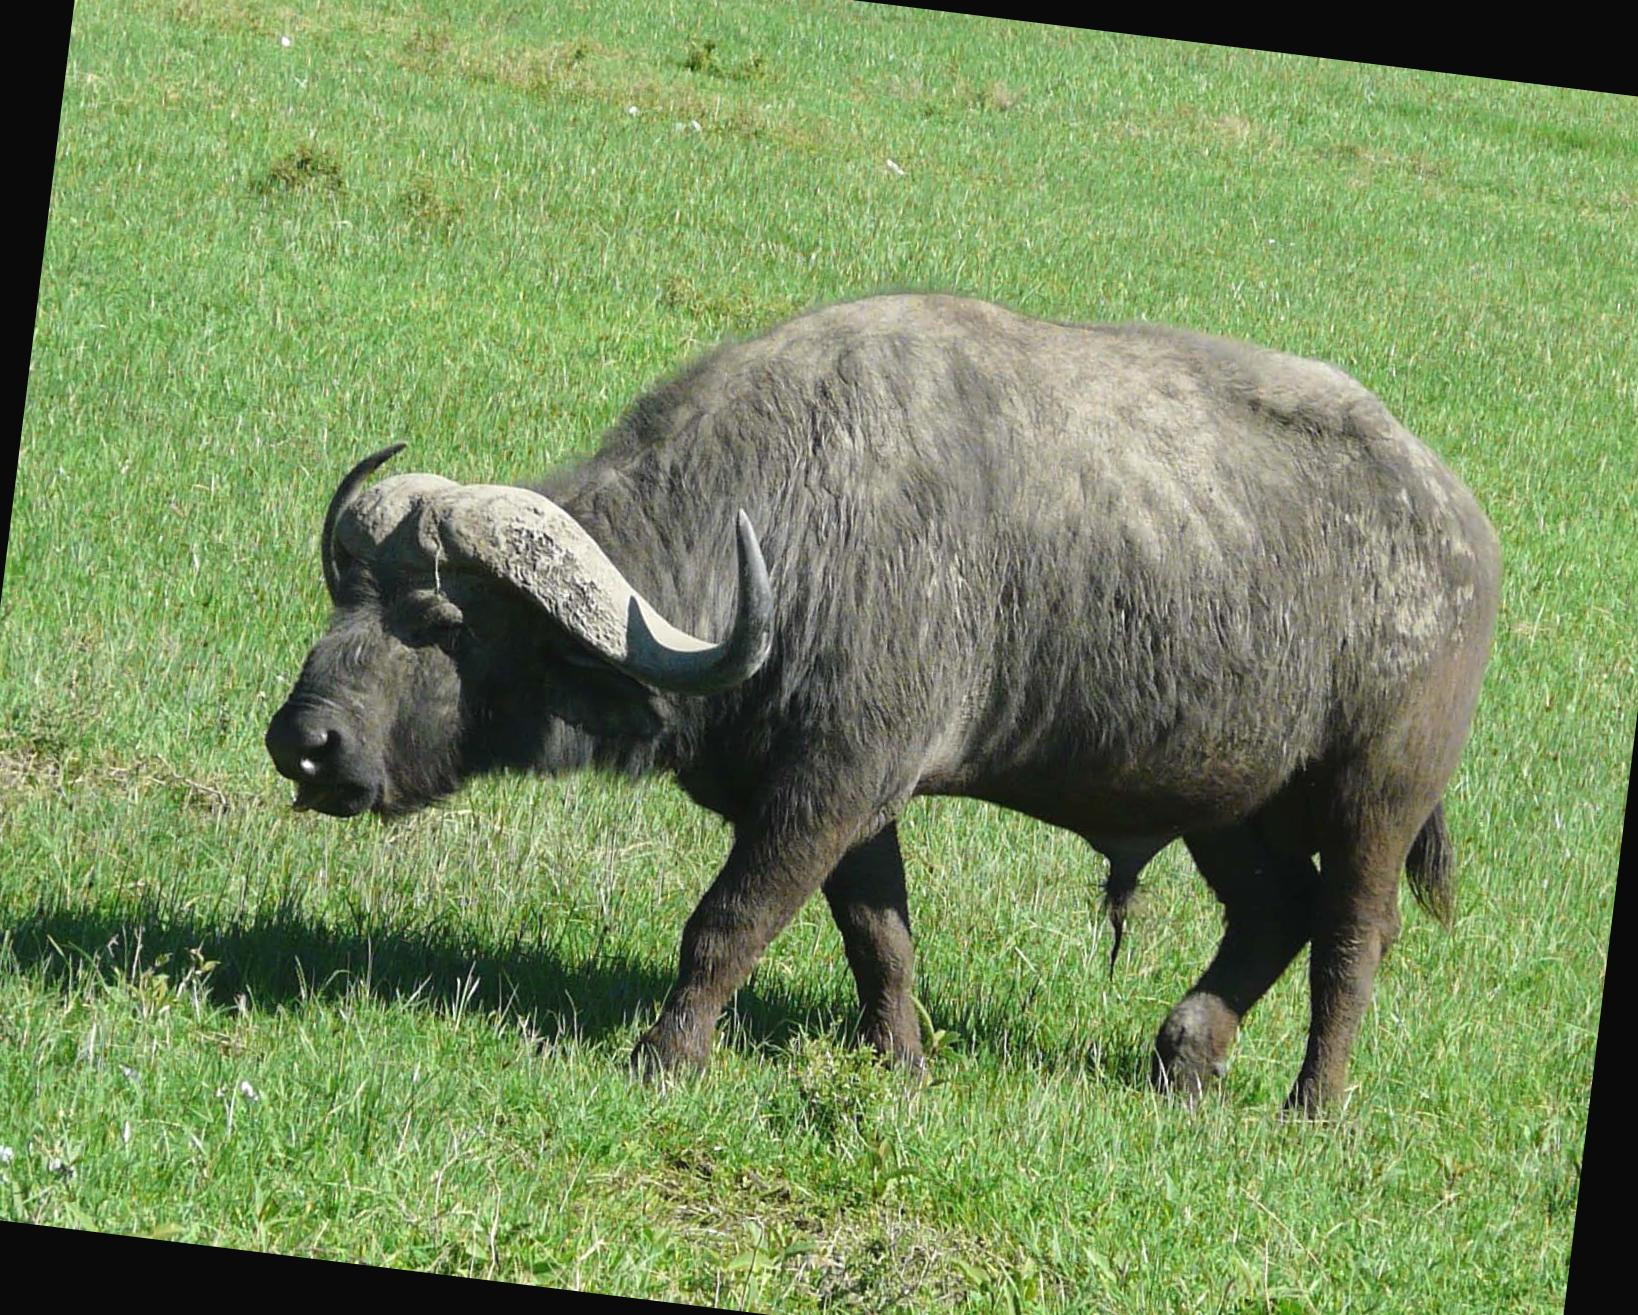Buffalo: (64, 72, 1594, 1239)
